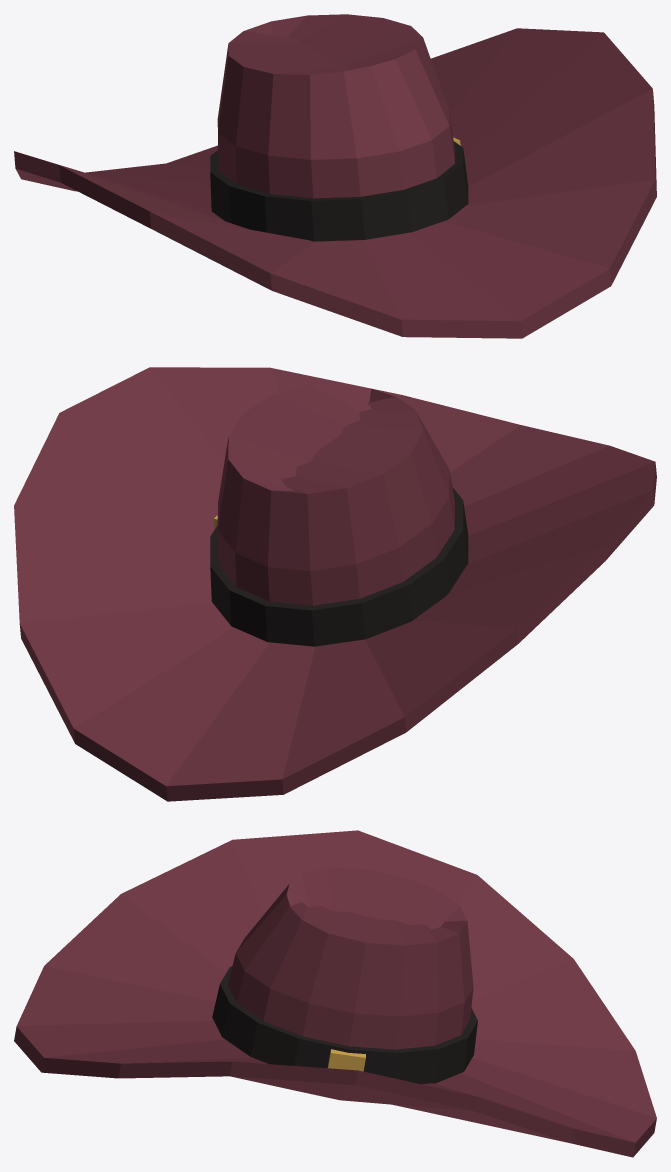
The model's file is SM_Hat_Boss.fbx.
3 views of the same model, one above another, from view 1: azimuth 30°, elevation 25°; view 2: azimuth 150°, elevation 25°; view 3: azimuth 270°, elevation 25° (orthographic). The views are drawn at different scales.
Visible parts, largest first — view 1: Prop_Hat_Boss; view 2: Prop_Hat_Boss; view 3: Prop_Hat_Boss.
Part boxes in pixels (<box>): Prop_Hat_Boss: <box>14,14,656,338</box>; Prop_Hat_Boss: <box>14,367,656,801</box>; Prop_Hat_Boss: <box>14,830,656,1157</box>.
Bounding box in the file's own units: 55.68 × 63.04 × 25.79.
